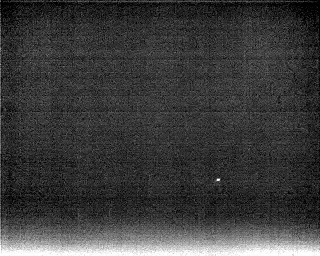BIRD: (213, 175, 223, 185)
